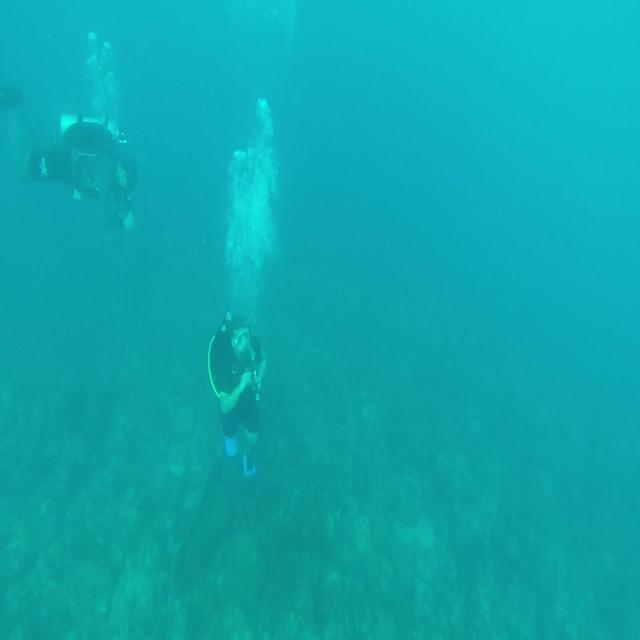human: (1, 80, 138, 232), (206, 309, 267, 478)
